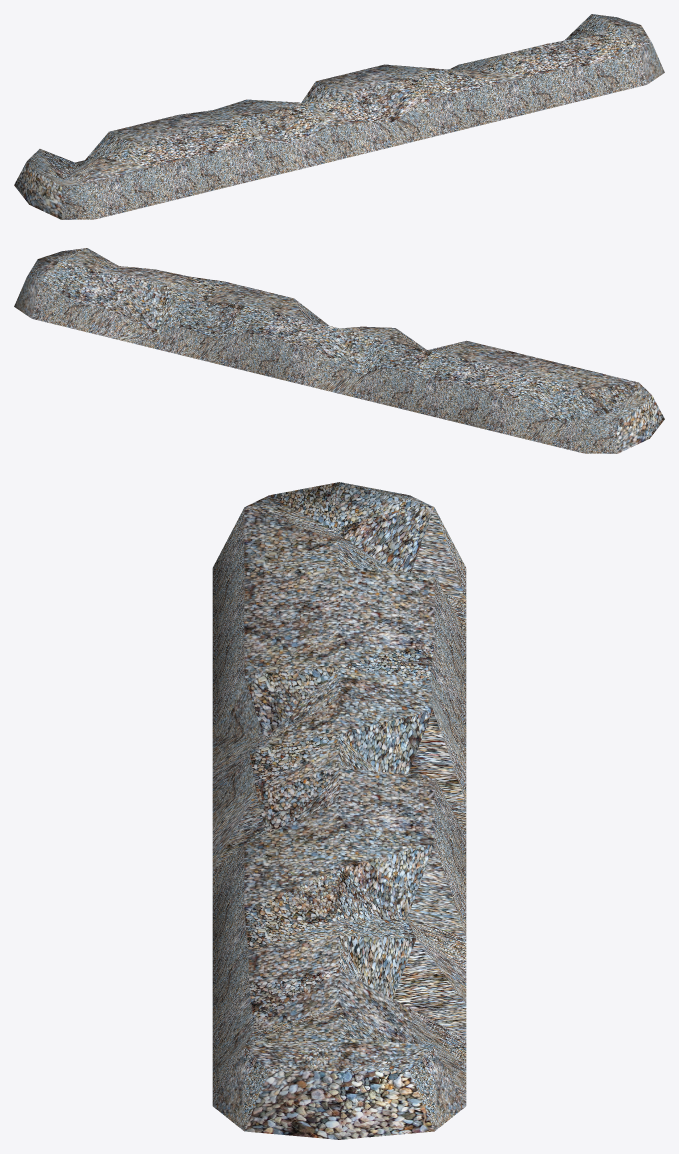
The model's file is peagravel.fbx.
3 renders of one model, top to bottom at view 1: azimuth 30°, elevation 25°; view 2: azimuth 150°, elevation 25°; view 3: azimuth 270°, elevation 25°, orthographic. The views are drawn at different scales.
Parts seen in each view (by area): view 1: peagravel; view 2: peagravel; view 3: peagravel.
Boxes of the visible parts, box(x1,y1,x2,y2) form: peagravel: box(14, 14, 664, 219); peagravel: box(14, 248, 664, 453); peagravel: box(212, 482, 466, 1139).
Bounding box in the file's own units: 5.65 × 0.3492 × 1.
